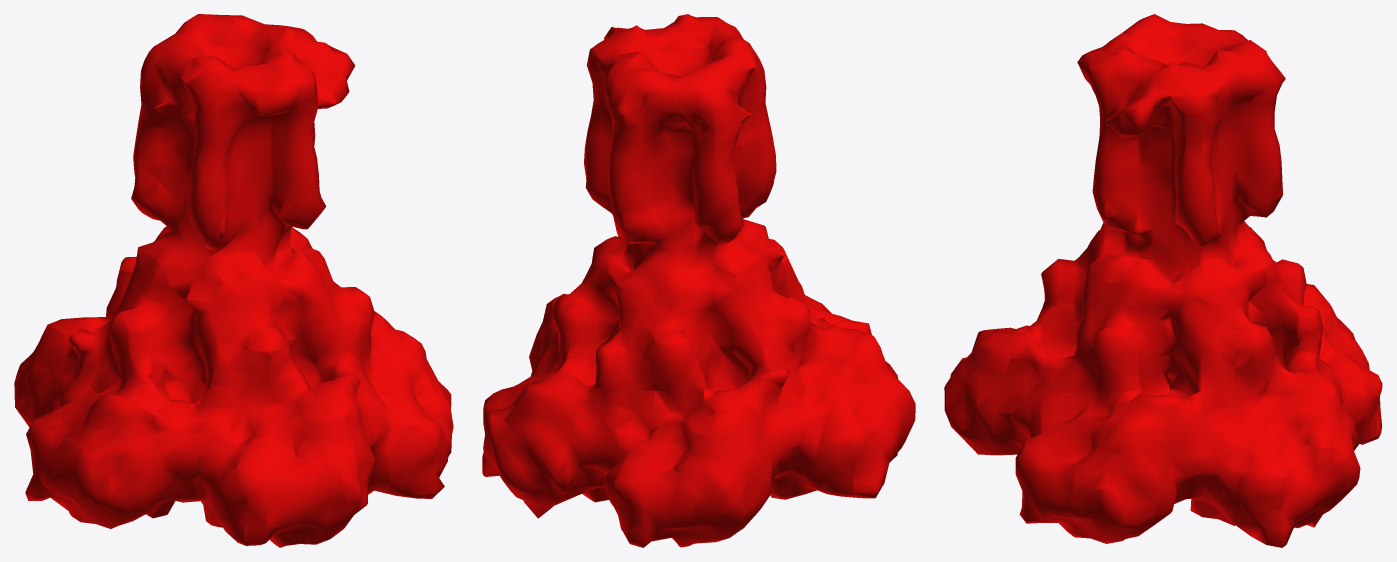
The model's file is CoarseMS_4i0u.fbx.
3 views of the same model, side by side, from view 1: azimuth 30°, elevation 25°; view 2: azimuth 150°, elevation 25°; view 3: azimuth 270°, elevation 25° (orthographic). The views are drawn at different scales.
Parts seen in each view (by area): view 1: CoarseMS_4i0u; view 2: CoarseMS_4i0u; view 3: CoarseMS_4i0u.
Boxes of the visible parts, x1,y1,x2,y2 form: CoarseMS_4i0u: (14, 14, 453, 547); CoarseMS_4i0u: (482, 14, 915, 547); CoarseMS_4i0u: (944, 14, 1382, 547).
Size of the model in its own units: 104 by 118 by 104.
